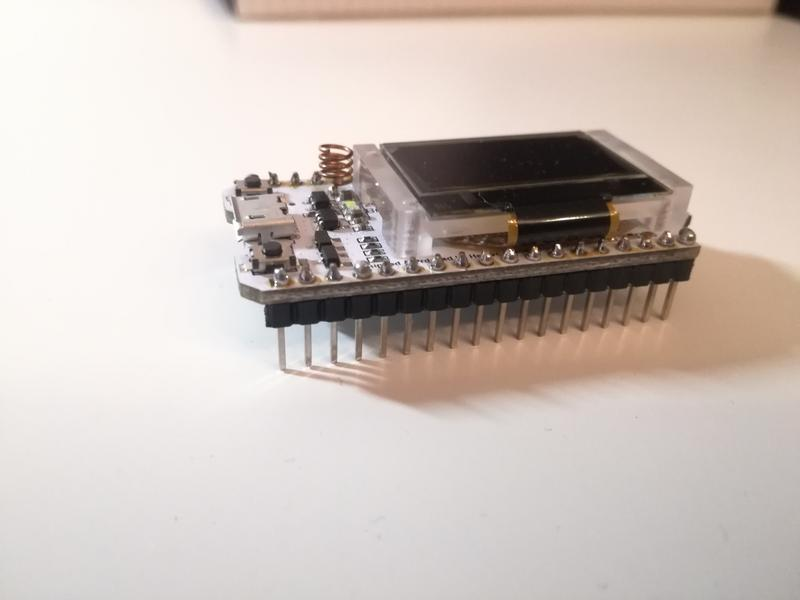Heltec_ESP32_Lora: (215, 118, 704, 375)
